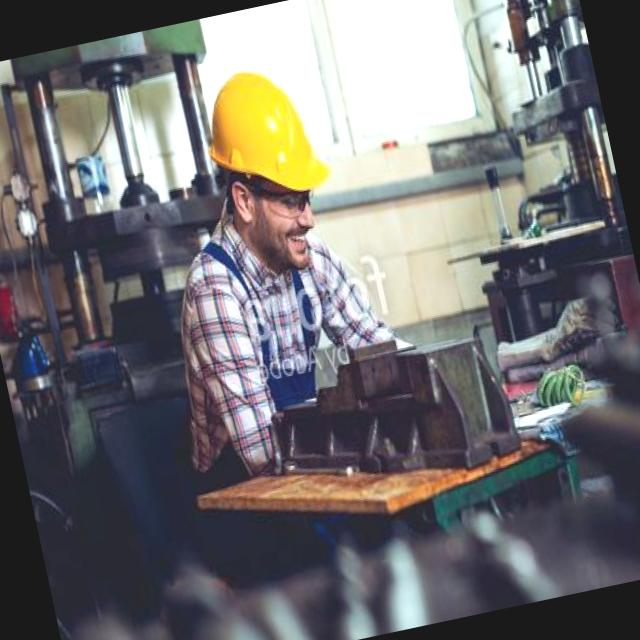helmet: (194, 61, 340, 212)
no-vest: (161, 236, 392, 483)
